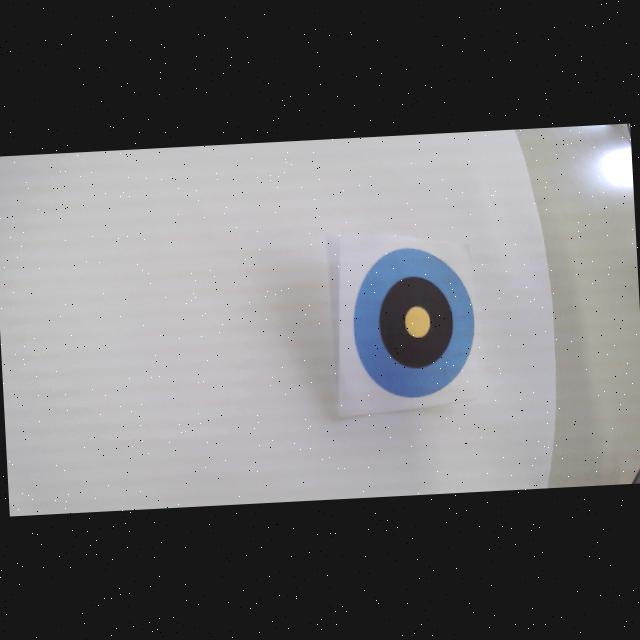COGNITIVE: (350, 244, 479, 402)
